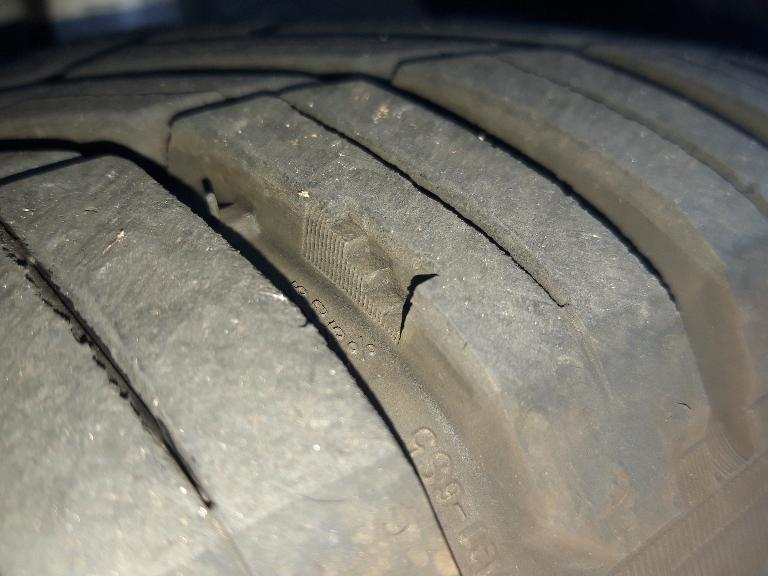temoin:90: (296, 188, 450, 357)
